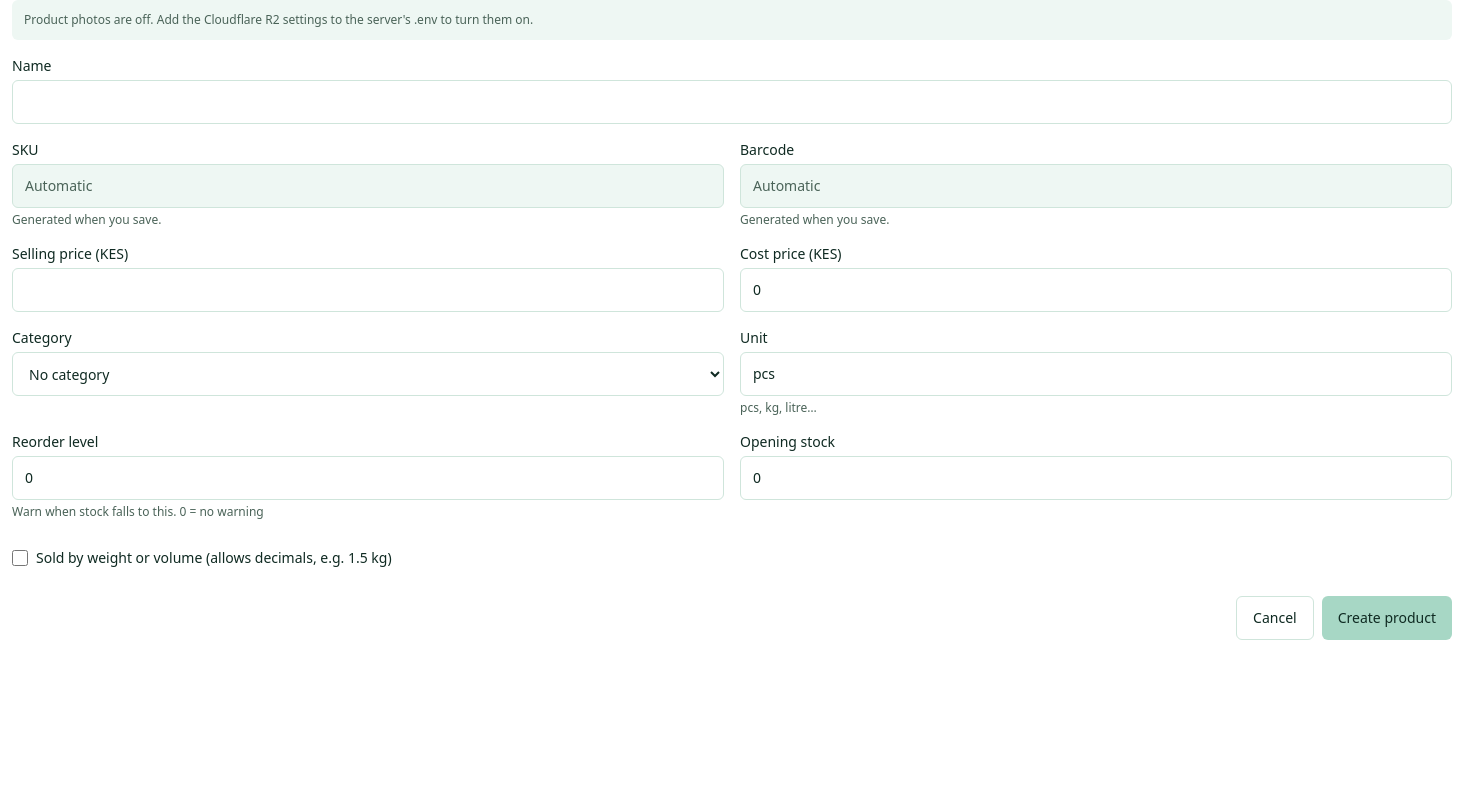
Test case: product form categories › offers a sub-category once a category with sub-categories is chosen
Expected: the field labelled "Sub-category" is not shown
Select "Adults" in the dropdown labelled "Category" at {"x": 368, "y": 374}, box [12,352,724,396]
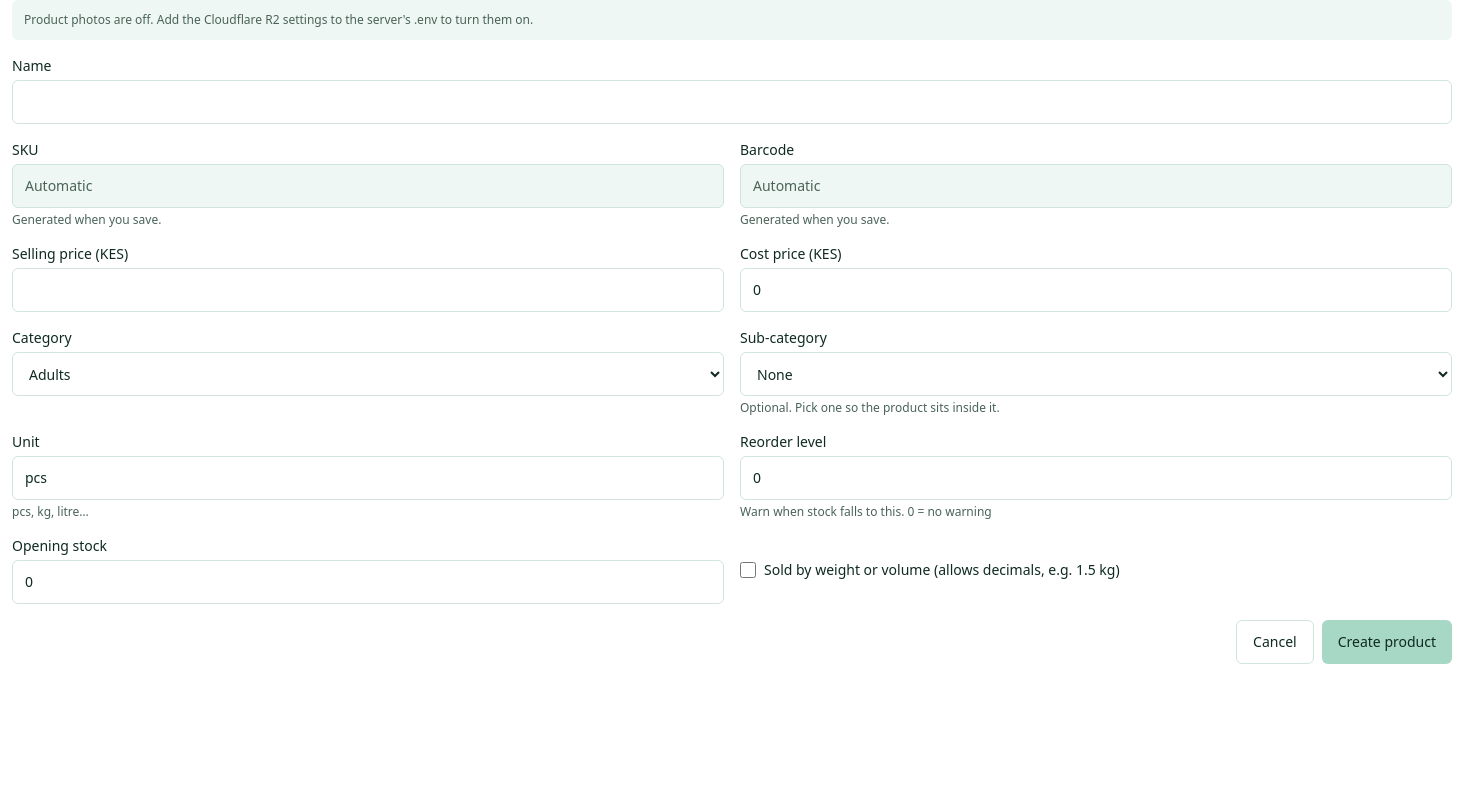
Expected: the dropdown labelled "Sub-category" is shown, [740,352,1452,396]
# A category without sub-categories shows no second dropdown.
Select "Home" in the dropdown labelled "Category" at {"x": 368, "y": 374}, box [12,352,724,396]
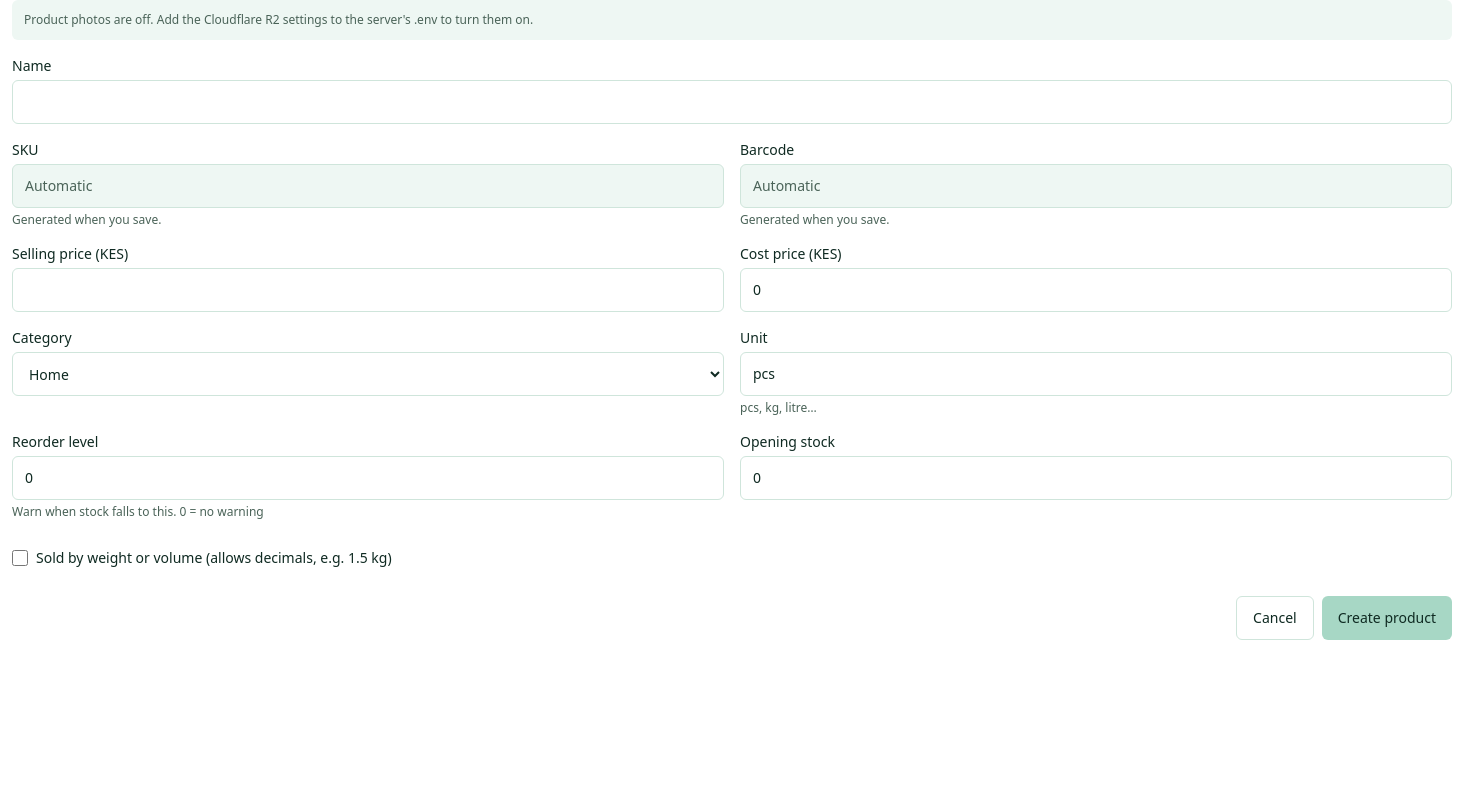
Expected: the label labelled "Sub-category" is gone
